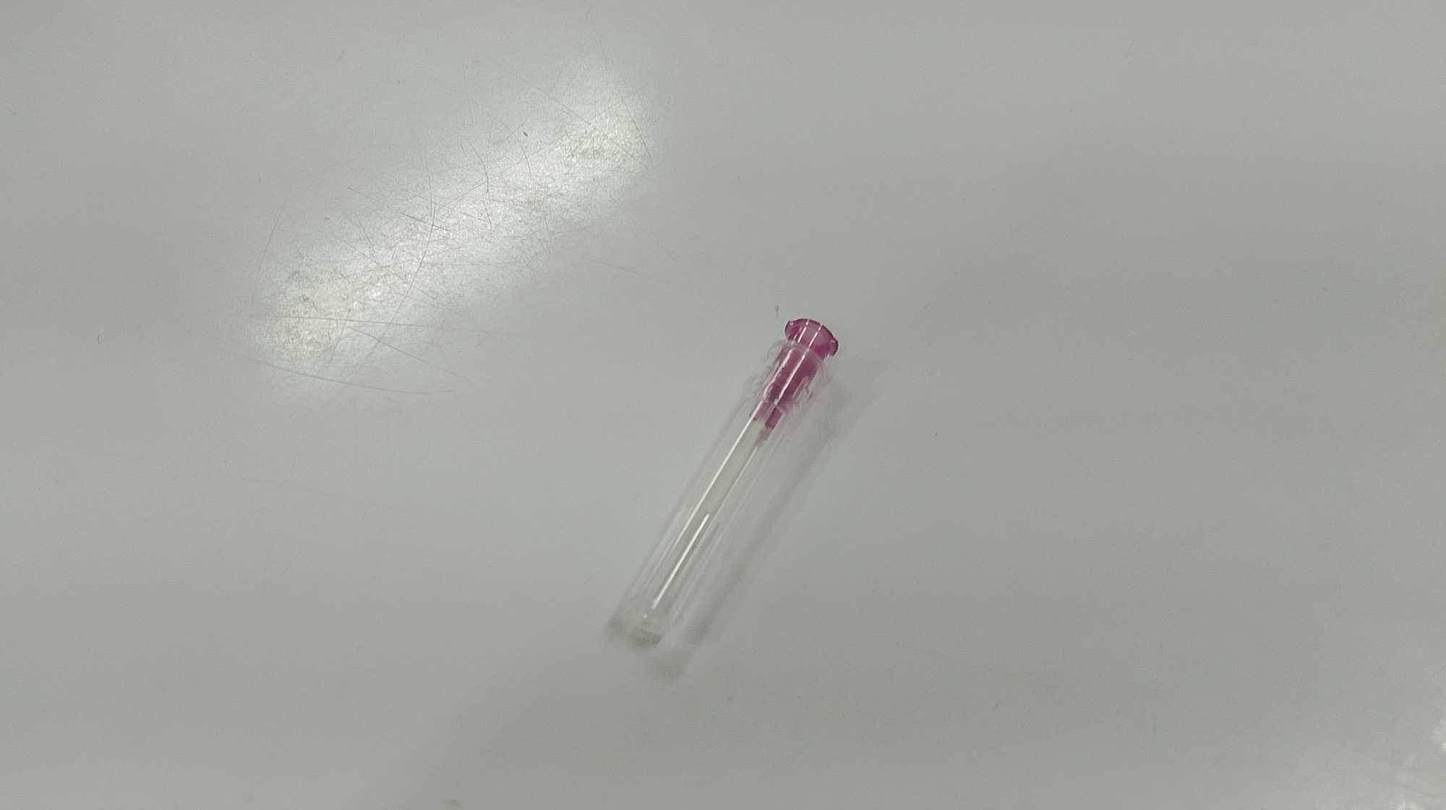Sharps: (603, 315, 839, 651)
